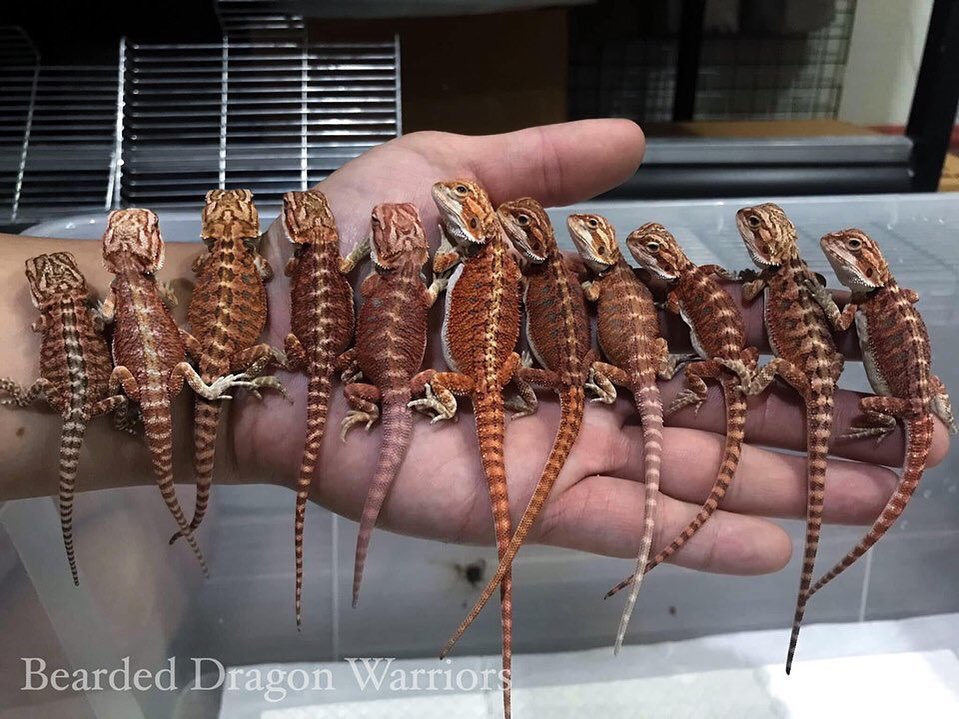bearded: (624, 219, 757, 615), (430, 176, 524, 719), (730, 202, 833, 676), (565, 206, 670, 653), (824, 223, 931, 602), (496, 193, 589, 619), (183, 182, 278, 567), (100, 208, 202, 564), (270, 190, 356, 612), (4, 253, 105, 584), (352, 204, 426, 601)
